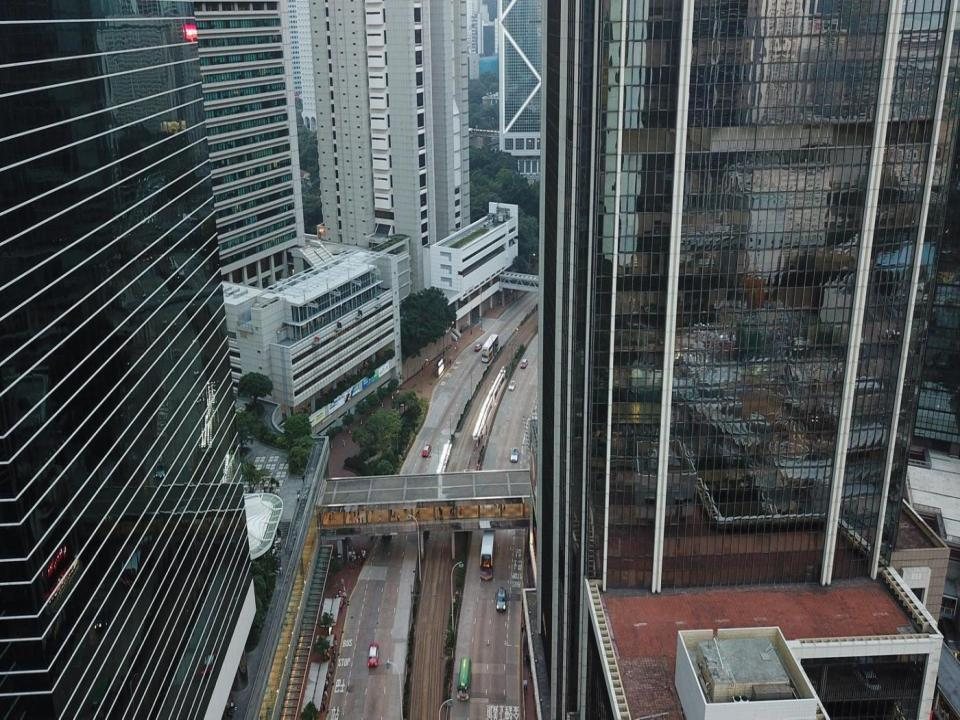bus: (480, 517, 496, 581), (456, 654, 472, 697), (481, 334, 498, 364)
car: (495, 587, 507, 615), (367, 642, 378, 670), (421, 442, 431, 457), (511, 444, 518, 463), (521, 357, 528, 371), (508, 378, 516, 390), (474, 340, 480, 351)
